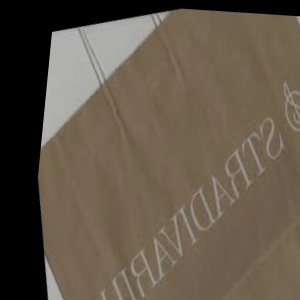stradivarius: (79, 69, 300, 121)
